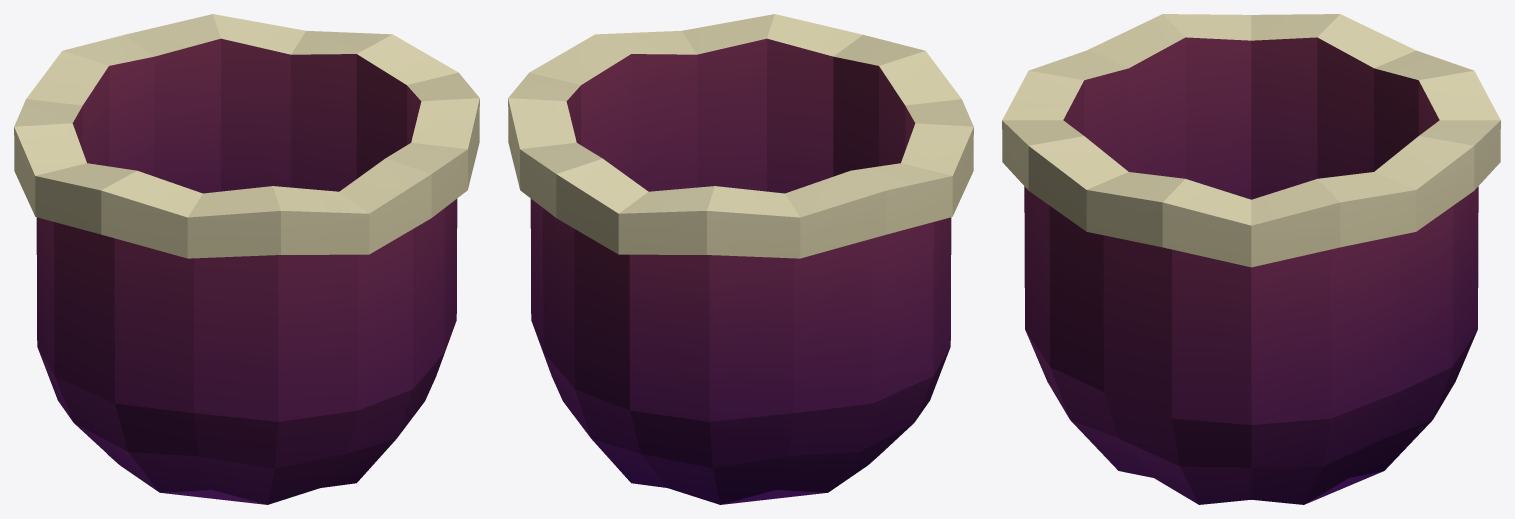
File: PlantPot_42.fbx
3 views of the same model, side by side, from view 1: azimuth 30°, elevation 25°; view 2: azimuth 150°, elevation 25°; view 3: azimuth 270°, elevation 25° (orthographic).
Visible parts, largest first — view 1: PlantPot_42; view 2: PlantPot_42; view 3: PlantPot_42.
Boxes of the visible parts, x1,y1,x2,y2 form: PlantPot_42: (14,14,479,504); PlantPot_42: (508,14,973,504); PlantPot_42: (1002,14,1500,504).
Bounding box in the file's own units: 28.57 × 21.53 × 28.57.
